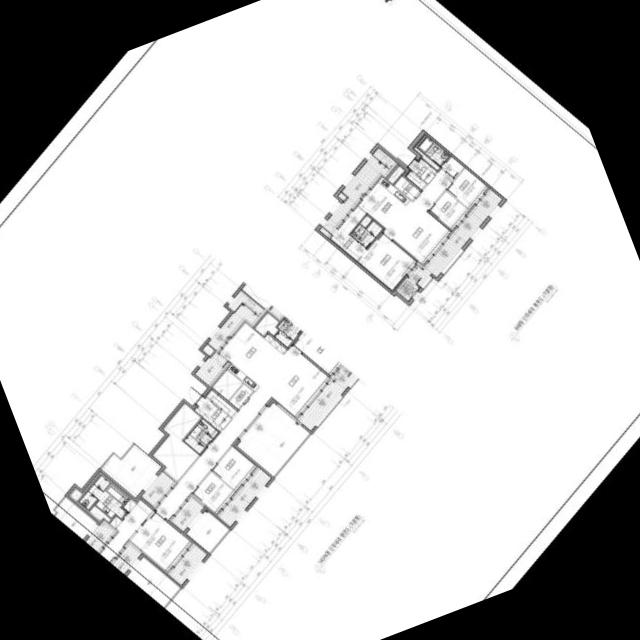background: (0, 0, 640, 640)
space_balconi: (409, 189, 503, 286), (320, 147, 396, 236), (237, 402, 310, 476), (299, 364, 358, 430), (208, 290, 265, 350), (102, 444, 162, 498), (219, 468, 271, 526), (187, 509, 229, 552), (170, 544, 207, 585), (142, 471, 175, 506), (172, 497, 205, 531), (195, 352, 228, 385), (251, 271, 283, 301), (113, 544, 142, 574), (86, 523, 115, 551), (270, 290, 297, 317)
space_bedroom: (289, 304, 353, 375), (130, 511, 192, 571), (358, 233, 416, 290), (212, 446, 256, 490), (193, 471, 235, 514), (447, 168, 488, 209), (430, 191, 469, 230)
space_dressroom: (331, 206, 368, 261)
space_front: (195, 397, 232, 431), (412, 158, 437, 184)
space_kitchen: (220, 322, 287, 391), (359, 176, 411, 228)
space_living_room: (156, 345, 330, 520), (384, 168, 454, 264)
space_other: (153, 403, 202, 481), (101, 498, 153, 561), (212, 369, 243, 400), (207, 390, 237, 416), (242, 283, 272, 308), (395, 175, 420, 200), (255, 312, 280, 335), (415, 147, 440, 170), (230, 384, 253, 409), (442, 156, 464, 178), (407, 171, 427, 189), (90, 505, 111, 522), (388, 165, 405, 183), (203, 344, 215, 356), (71, 489, 83, 501), (361, 215, 372, 227), (338, 192, 347, 200)
space_outdoor_room: (396, 277, 420, 301), (345, 350, 369, 374)
space_toilet: (80, 475, 128, 518), (185, 418, 219, 453), (418, 136, 450, 166), (276, 316, 303, 347), (351, 221, 383, 247)
